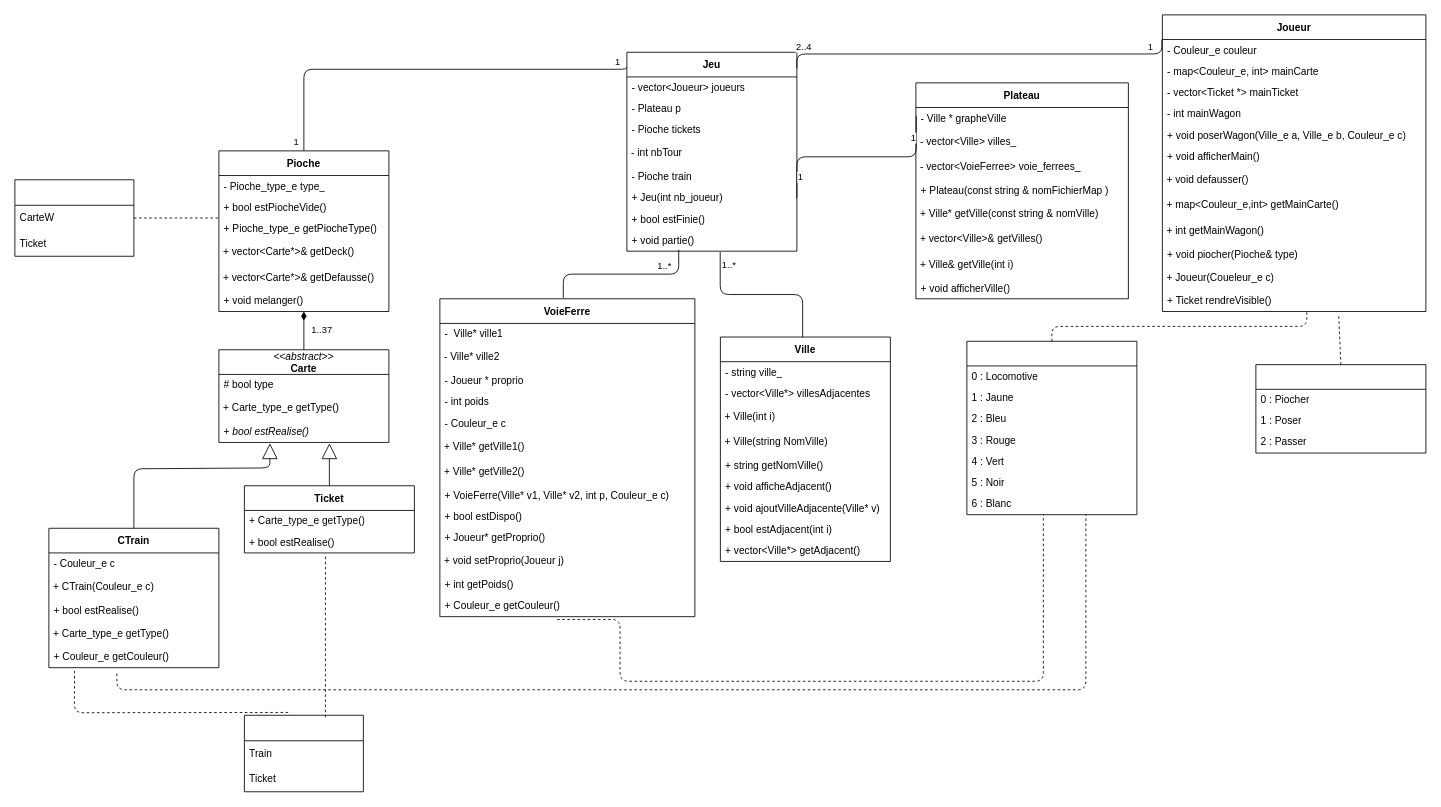
Image size: 1441x807. Some labels were removed from this diagram. Here are the shapes that lost their labels. From the top down, the box of each, then its label:
(14, 179, 134, 256): <<enumeration>> Pioche_type_e
(966, 340, 1137, 515): <<enumeration>> Couleur_e
(1255, 364, 1426, 453): <<enumeration>> TourJeu
(244, 714, 363, 792): <<enumeration>> Carte_type_e
